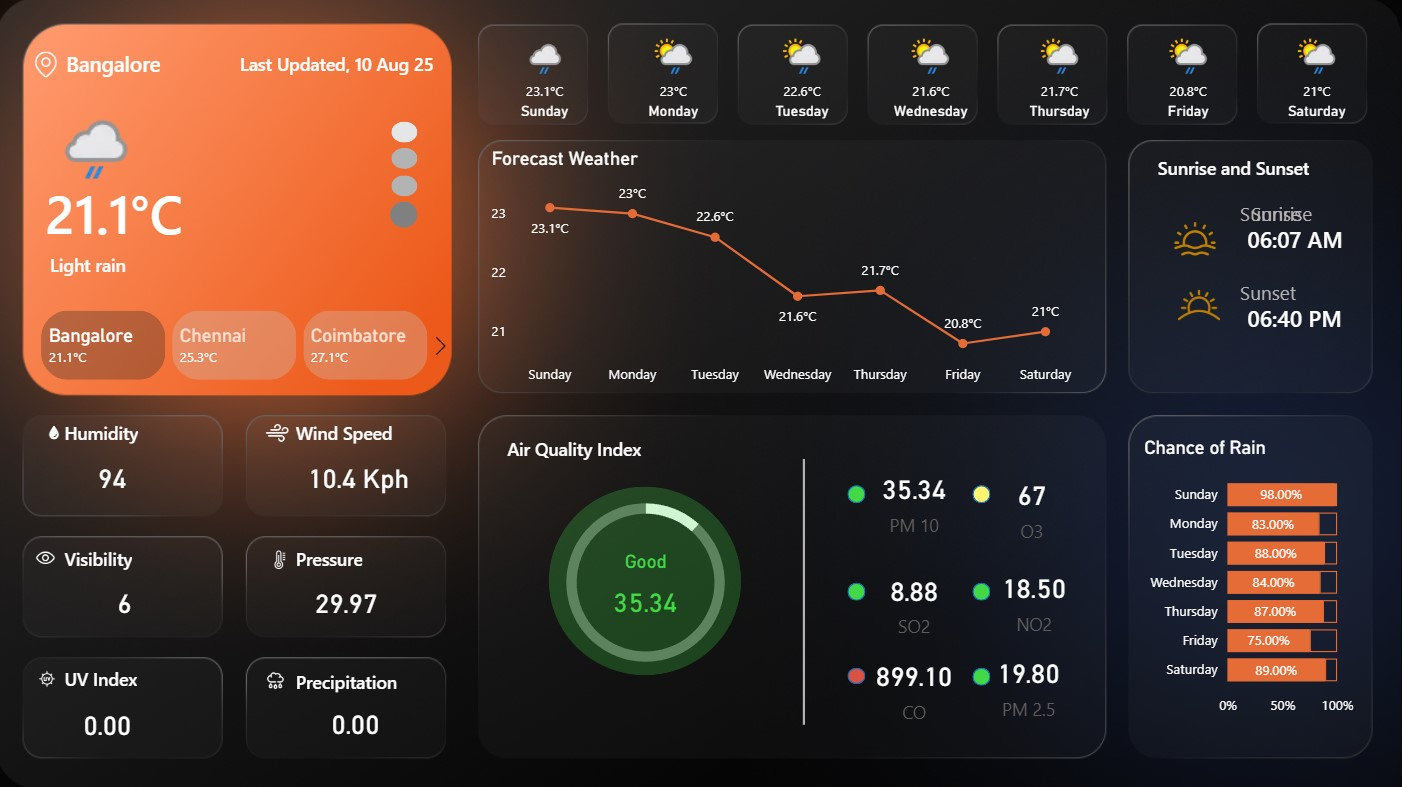

Layout of this report page (visuals, bound fields, positions):
{"tool":"powerbi","page":{"name":"Page 1","canvas":[1280,720],"ordinal":0},"visuals":[{"type":"advancedSlicerVisual","fields":{"Values":["Locations.location.name"]},"box":[17,278.4,403.4,73.9],"z":0},{"type":"shape","box":[35.6,121.8,225.8,144.1],"z":1000},{"type":"shape","box":[46,218.3,323.8,47.5],"z":2000},{"type":"shape","box":[60.9,35.6,147,47.5],"z":3000},{"type":"shape","box":[219.8,35.6,188.6,47.5],"z":4000},{"type":"image","box":[8.9,43.1,74.3,32.7],"z":5000},{"type":"cardVisual","fields":{"Data":["Min(Current.current.condition.icon)"]},"box":[35.6,72.8,99.5,98],"z":6000},{"type":"image","box":[35.6,383.2,37.1,22.3],"z":7000},{"type":"shape","box":[60.9,381.7,112.9,23.8],"z":8000},{"type":"shape","box":[271.8,381.7,112.9,23.8],"z":9000},{"type":"image","box":[240.6,377.3,31.2,34.2],"z":10000},{"type":"shape","box":[60.9,496.1,112.9,23.8],"z":11000},{"type":"image","box":[23.8,493.1,44.6,29.7],"z":12000},{"type":"shape","box":[271.8,496.1,112.9,23.8],"z":13000},{"type":"shape","box":[60.9,606,112.9,23.8],"z":14000},{"type":"shape","box":[271.8,607.5,112.9,23.8],"z":15000},{"type":"image","box":[34.2,606,26.7,25.2],"z":16000},{"type":"image","box":[233.2,496.1,52,26.7],"z":17000},{"type":"image","box":[233.2,606,44.6,28.2],"z":18000},{"type":"card","fields":{"Values":["Sum(Current.current.humidity)"]},"box":[72.8,405.5,68.3,59.4],"z":19000},{"type":"card","fields":{"Values":["_Measure.Wind_speed"]},"box":[277.7,405.5,106.9,59.4],"z":20000},{"type":"card","fields":{"Values":["Sum(Current.current.uv)"]},"box":[68.3,631.2,68.3,59.4],"z":21000},{"type":"card","fields":{"Values":["Sum(Current.current.pressure_in)"]},"box":[285.2,519.8,68.3,59.4],"z":22000},{"type":"card","fields":{"Values":["Sum(Current.current.precip_in)"]},"box":[286.7,629.8,83.2,59.4],"z":23000},{"type":"card","fields":{"Values":["Sum(Current.current.vis_km)"]},"box":[83.2,519.8,69.8,59.4],"z":24000},{"type":"advancedSlicerVisual","fields":{"Values":["Forcast_day.Day_Name"]},"box":[439.6,23.8,828.8,98],"z":25000},{"type":"lineChart","title":"Forecast Weather","fields":{"Y":["Sum(Forcast_day.forecast.forecastday.day.avgtemp_c)"],"Category":["Forcast_day.Day_Name"]},"box":[447.1,135.2,543.6,224.3],"z":26000},{"type":"shape","box":[1054.5,135.2,167.8,35.6],"z":27000},{"type":"shape","box":[1134.7,194.6,98,47.5],"z":28000},{"type":"shape","box":[1134.7,265.9,98,47.5],"z":29000},{"type":"shape","box":[1128.8,170.8,108.4,47.5],"z":30000},{"type":"shape","box":[1128.8,242.1,108.4,47.5],"z":31000},{"type":"image","box":[1054.5,248,80.2,60.9],"z":32000},{"type":"image","box":[1054.5,194.6,72.8,47.5],"z":33000},{"type":"hundredPercentStackedBarChart","title":"Chance of Rain","fields":{"Y":["Sum(Forcast_day.forecast.forecastday.day.daily_chance_of_rain)","_Measure.Left_Value_Rain"],"Category":["Forcast_day.Day_Name"]},"box":[1039.7,398.1,200.5,262.9],"z":34000},{"type":"shape","box":[1139.2,170.8,108.4,47.5],"z":35000},{"type":"shape","box":[463.4,395.1,141.1,26.7],"z":36000},{"type":"card","fields":{"Values":["Sum(Current.current.air_quality.co)"]},"box":[787.2,592.6,96.5,66.8],"z":37000},{"type":"card","fields":{"Values":["Sum(Current.current.air_quality.o3)"]},"box":[883.7,421.8,117.3,80.2],"z":38000},{"type":"card","fields":{"Values":["Sum(Current.current.air_quality.pm2_5)"]},"box":[886.7,586.7,106.9,74.3],"z":39000},{"type":"card","fields":{"Values":["Sum(Current.current.air_quality.pm10)"]},"box":[787.2,418.8,96.5,74.3],"z":40000},{"type":"card","fields":{"Values":["Sum(Current.current.air_quality.no2)"]},"box":[897.1,509.4,96.5,74.3],"z":41000},{"type":"card","fields":{"Values":["Sum(Current.current.air_quality.so2)"]},"box":[787.2,510.9,96.5,74.3],"z":42000},{"type":"shape","box":[775.3,442.6,16.3,16.3],"z":43000},{"type":"shape","box":[775.3,607.5,16.3,14.9],"z":44000},{"type":"shape","box":[775.3,530.2,16.3,16.3],"z":45000},{"type":"shape","box":[888.2,442.6,16.3,16.3],"z":46000},{"type":"shape","box":[888.2,530.2,16.3,16.3],"z":47000},{"type":"shape","box":[888.2,607.5,16.3,16.3],"z":48000},{"type":"shape","box":[616.7,418.3,236.7,241.7],"z":49000},{"type":"card","fields":{"Values":["Sum(Current.current.air_quality.pm10)"]},"box":[543.3,501.7,96.7,75],"z":50000},{"type":"donutChart","fields":{"Y":["Sum(Current.current.air_quality.pm10)","_Measure.LEFT_VAUE_PM10"]},"box":[496.7,418.3,190,225],"z":51000},{"type":"shape","box":[503.3,443.3,175,171.7],"z":52000},{"type":"shape","box":[360.2,111.4,23.9,19.3],"z":53000},{"type":"shape","box":[360.2,135.2,23.9,19.3],"z":54000},{"type":"shape","box":[360.2,160.2,23.9,19.3],"z":55000},{"type":"shape","box":[359.1,184.1,25,23.9],"z":56000}]}

Visuals, with their boxes in screenshot pixels (x1, y1, x2, y2), scaled from the page's 1280x720 canvas onto the 1402x787 screenshot:
advancedSlicerVisual - Locations.location.name: BBox(19, 304, 460, 385)
shape: BBox(39, 133, 286, 291)
shape: BBox(50, 239, 405, 291)
shape: BBox(67, 39, 228, 91)
shape: BBox(241, 39, 447, 91)
image: BBox(10, 47, 91, 83)
cardVisual - Min(Current.current.condition.icon): BBox(39, 80, 148, 187)
image: BBox(39, 419, 80, 443)
shape: BBox(67, 417, 190, 443)
shape: BBox(298, 417, 421, 443)
image: BBox(264, 412, 298, 450)
shape: BBox(67, 542, 190, 568)
image: BBox(26, 539, 75, 571)
shape: BBox(298, 542, 421, 568)
shape: BBox(67, 662, 190, 688)
shape: BBox(298, 664, 421, 690)
image: BBox(37, 662, 67, 690)
image: BBox(255, 542, 312, 571)
image: BBox(255, 662, 304, 693)
card - Sum(Current.current.humidity): BBox(80, 443, 155, 508)
card - _Measure.Wind_speed: BBox(304, 443, 421, 508)
card - Sum(Current.current.uv): BBox(75, 690, 150, 755)
card - Sum(Current.current.pressure_in): BBox(312, 568, 387, 633)
card - Sum(Current.current.precip_in): BBox(314, 688, 405, 753)
card - Sum(Current.current.vis_km): BBox(91, 568, 168, 633)
advancedSlicerVisual - Forcast_day.Day_Name: BBox(481, 26, 1389, 133)
"Forecast Weather" lineChart: BBox(490, 148, 1085, 393)
shape: BBox(1155, 148, 1339, 187)
shape: BBox(1243, 213, 1350, 265)
shape: BBox(1243, 291, 1350, 343)
shape: BBox(1236, 187, 1355, 239)
shape: BBox(1236, 265, 1355, 317)
image: BBox(1155, 271, 1243, 338)
image: BBox(1155, 213, 1235, 265)
"Chance of Rain" hundredPercentStackedBarChart: BBox(1139, 435, 1358, 723)
shape: BBox(1248, 187, 1367, 239)
shape: BBox(508, 432, 662, 461)
card - Sum(Current.current.air_quality.co): BBox(862, 648, 968, 721)
card - Sum(Current.current.air_quality.o3): BBox(968, 461, 1096, 549)
card - Sum(Current.current.air_quality.pm2_5): BBox(971, 641, 1088, 723)
card - Sum(Current.current.air_quality.pm10): BBox(862, 458, 968, 539)
card - Sum(Current.current.air_quality.no2): BBox(983, 557, 1088, 638)
card - Sum(Current.current.air_quality.so2): BBox(862, 558, 968, 640)
shape: BBox(849, 484, 867, 502)
shape: BBox(849, 664, 867, 680)
shape: BBox(849, 580, 867, 597)
shape: BBox(973, 484, 991, 502)
shape: BBox(973, 580, 991, 597)
shape: BBox(973, 664, 991, 682)
shape: BBox(675, 457, 935, 721)
card - Sum(Current.current.air_quality.pm10): BBox(595, 548, 701, 630)
donutChart - Sum(Current.current.air_quality.pm10) x _Measure.LEFT_VAUE_PM10: BBox(544, 457, 752, 703)
shape: BBox(551, 485, 743, 672)
shape: BBox(395, 122, 421, 143)
shape: BBox(395, 148, 421, 169)
shape: BBox(395, 175, 421, 196)
shape: BBox(393, 201, 421, 227)
